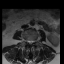CCS_stenosis: (29, 38, 31, 46)
LFS_normal: (33, 38, 35, 43)
LLS_normal: (31, 38, 33, 45)
RFS_normal: (25, 37, 27, 44)
RLS_normal: (27, 38, 29, 45)
